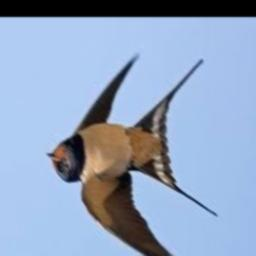Swallow: (47, 54, 217, 256)
